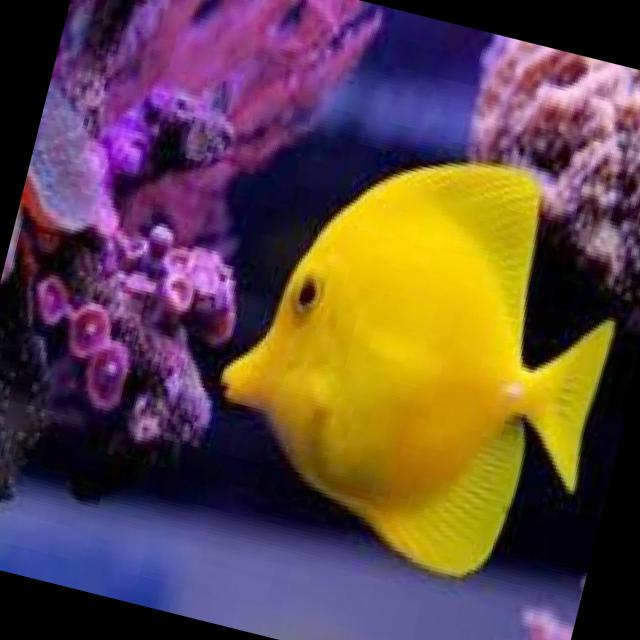TangFish: (187, 107, 640, 606)
